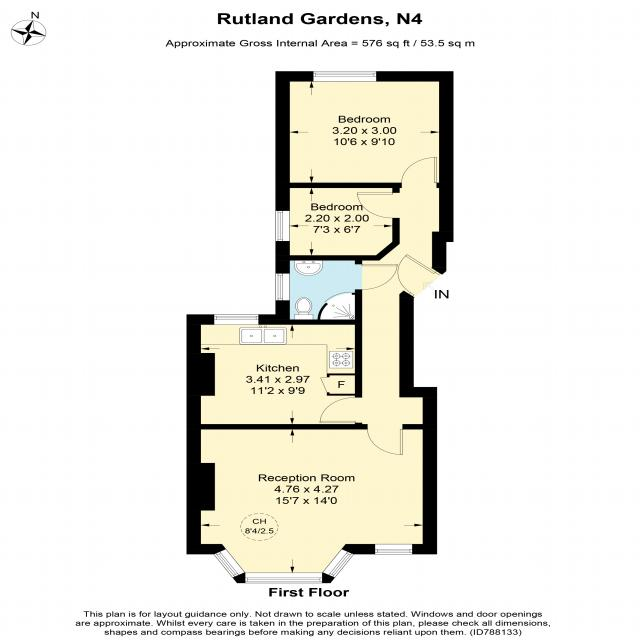DOOR: (396, 252, 444, 297), (355, 192, 401, 220), (400, 156, 439, 189), (365, 423, 404, 455), (319, 396, 363, 424), (354, 264, 398, 291)
ROOM: (186, 424, 438, 584), (275, 71, 454, 189), (186, 314, 363, 430), (275, 183, 400, 261)
WINDOW: (212, 548, 246, 579), (322, 548, 355, 579), (245, 572, 324, 584), (312, 70, 378, 83), (213, 313, 260, 326), (274, 210, 291, 242), (374, 543, 414, 555), (275, 273, 291, 301)
